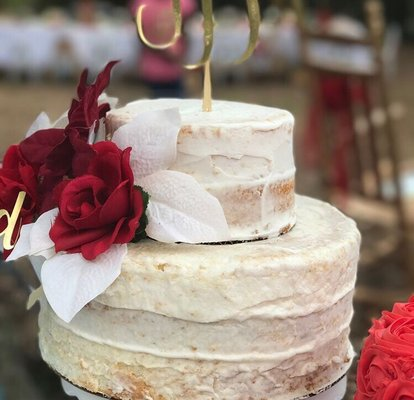sushi: (0, 47, 383, 391), (127, 97, 297, 243), (355, 289, 414, 398)
